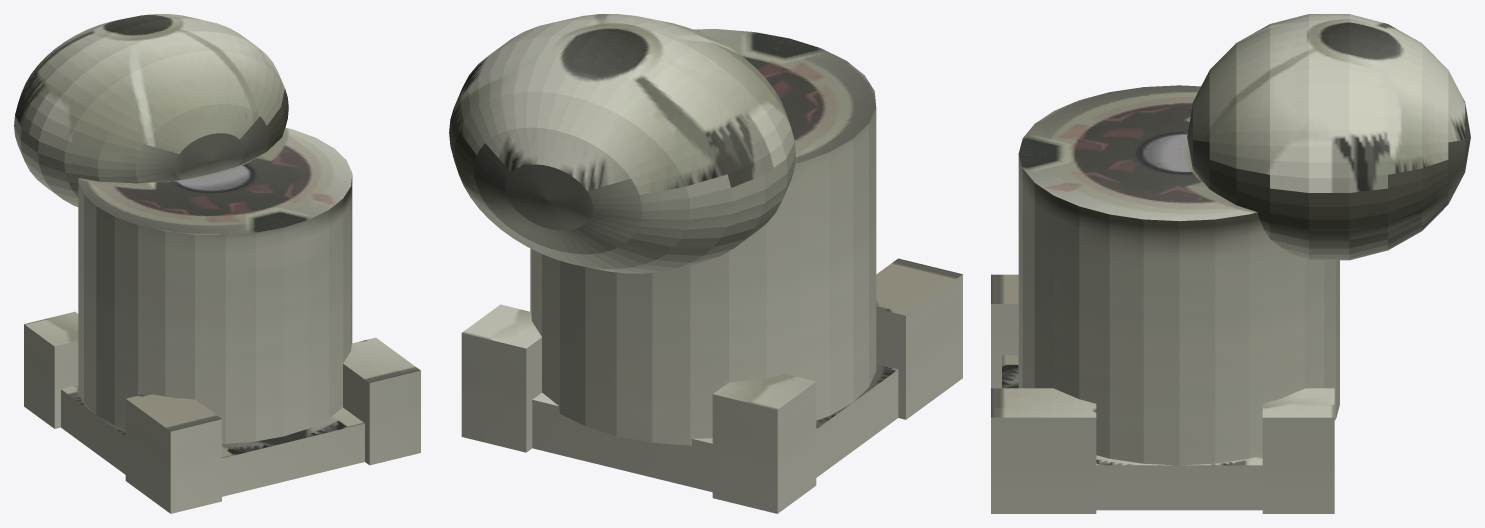
The model's file is Building_AncientMechGestatorTank.obj.
3 views of the same model, side by side, from view 1: azimuth 30°, elevation 25°; view 2: azimuth 150°, elevation 25°; view 3: azimuth 270°, elevation 25° (orthographic). The views are drawn at different scales.
Visible parts, largest first — view 1: Body; view 2: Body; view 3: Body.
Boxes of the visible parts, box(x1,y1,x2,y2) form: Body: box(14, 14, 420, 513); Body: box(449, 14, 962, 513); Body: box(991, 14, 1470, 513).
Size of the model in its own units: 0.9531 by 1.27 by 1.35.
1 material, 1 textured.
